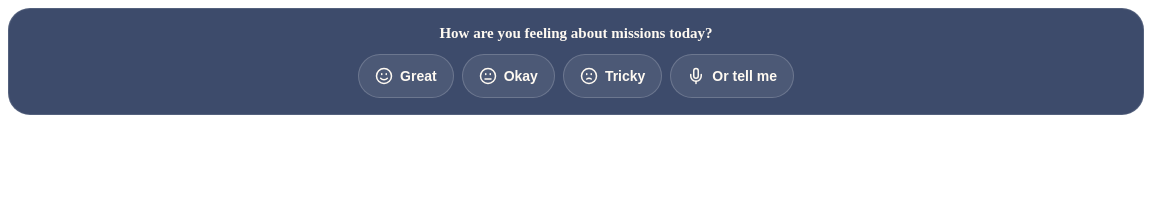
Scenario: TwinCheckIn › responds warmly to a tapped mood, never as a score
Click the button "Tricky": point(613, 76) left=563, top=54, right=662, bottom=98
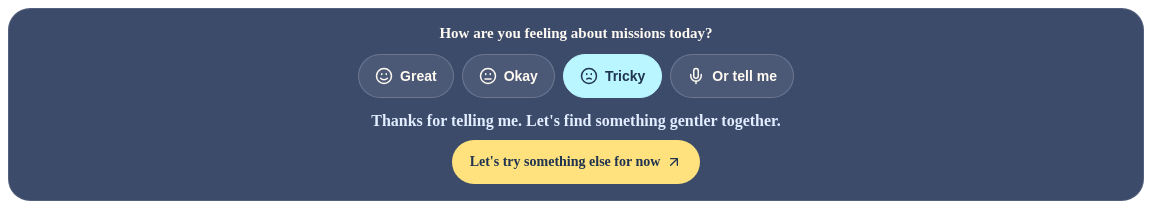
Check: the message shows "gentler together", box left=371, top=112, right=781, bottom=129
